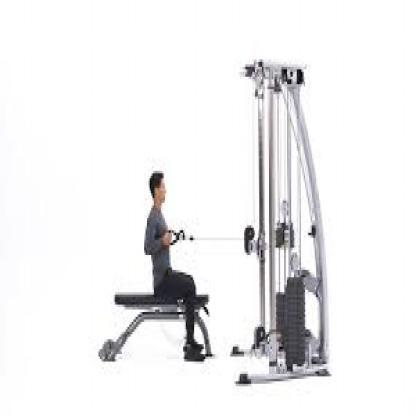Seated Cable Rows: (97, 39, 334, 390)
